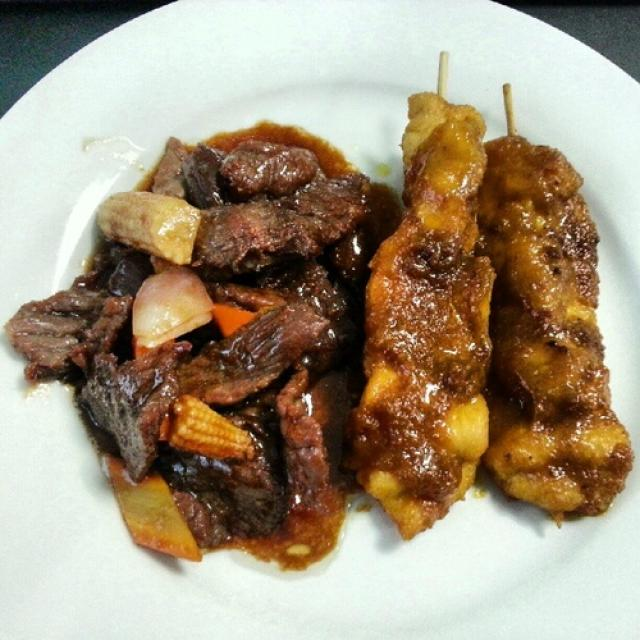牛肉菜式: (18, 42, 635, 618)
